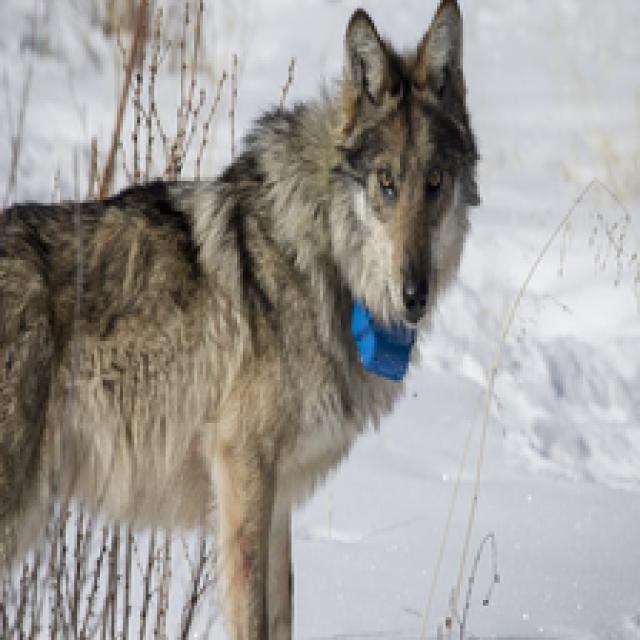wolf: (0, 0, 503, 640)
